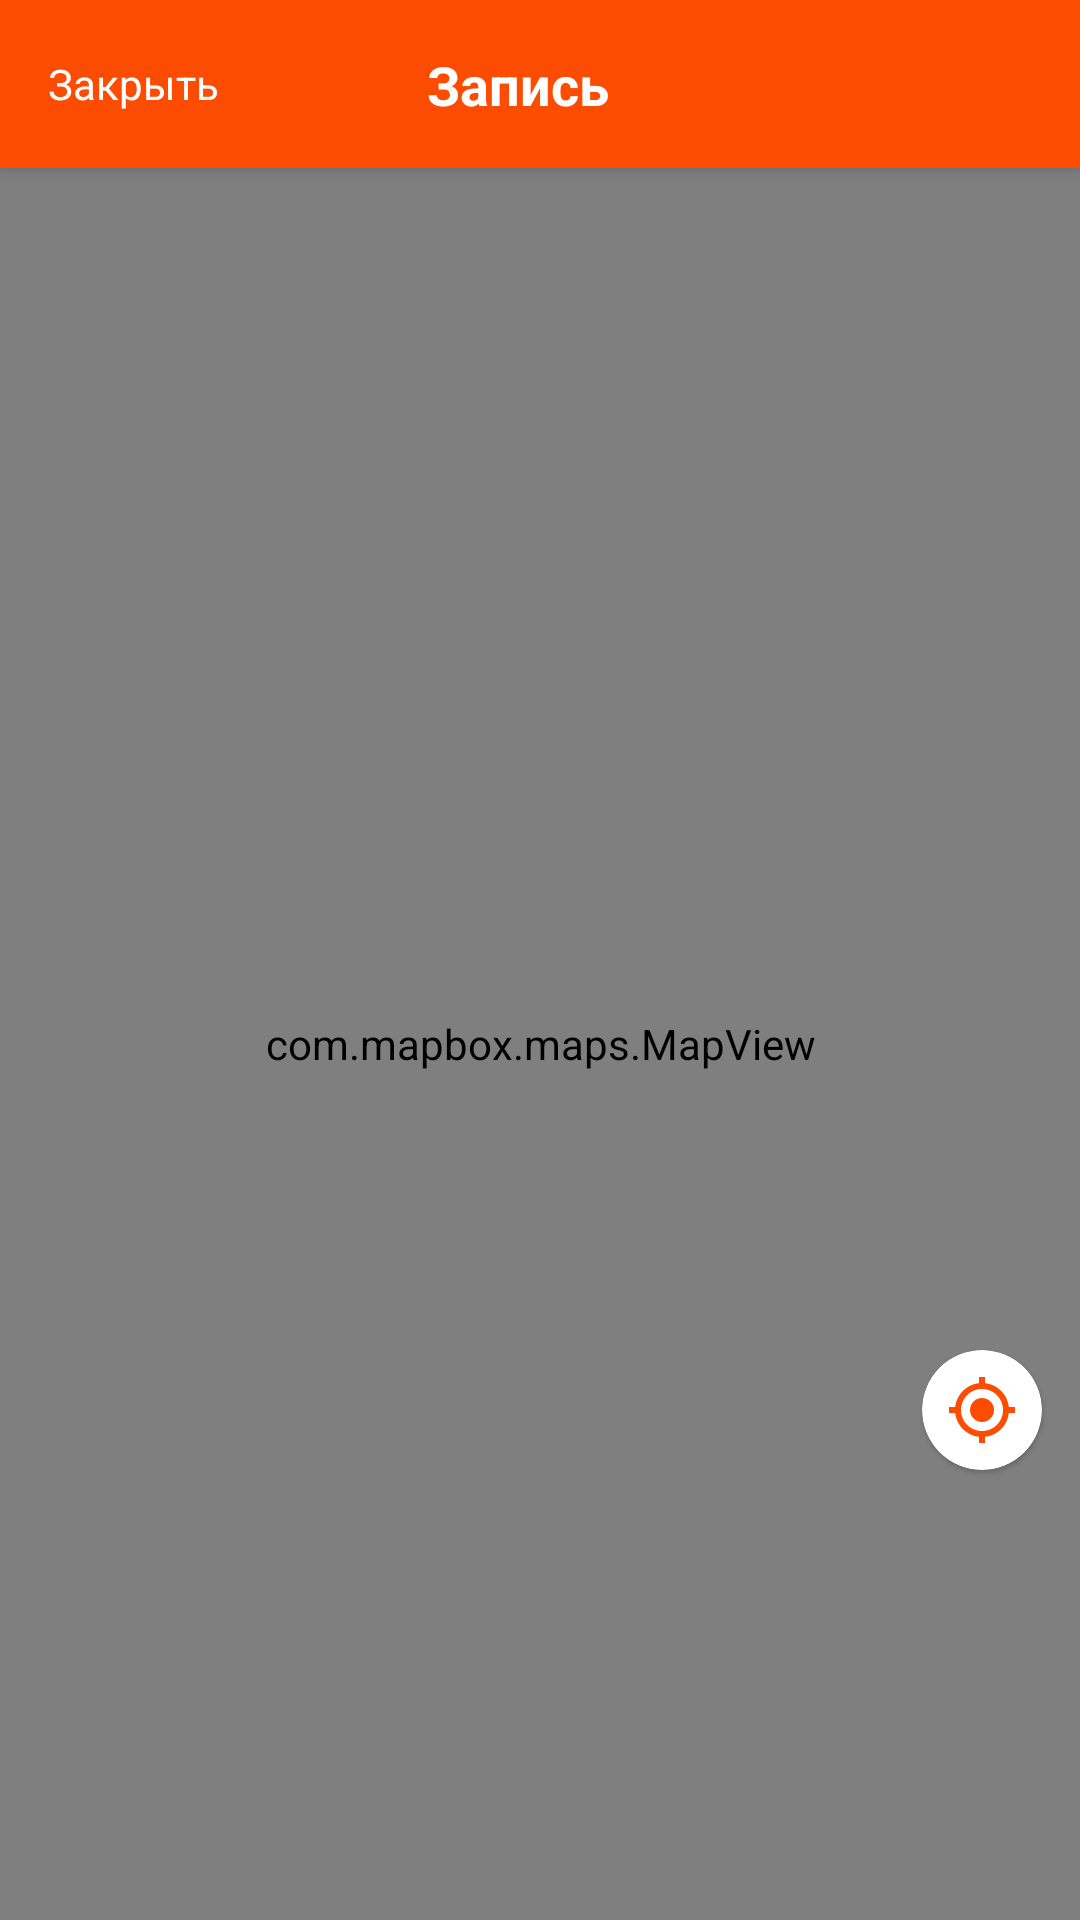

Icons on this 1080x1920 Android screen, each with its box as (x1, y1, x2, y2):
Моё местоположение: (949, 1377, 1015, 1443)
